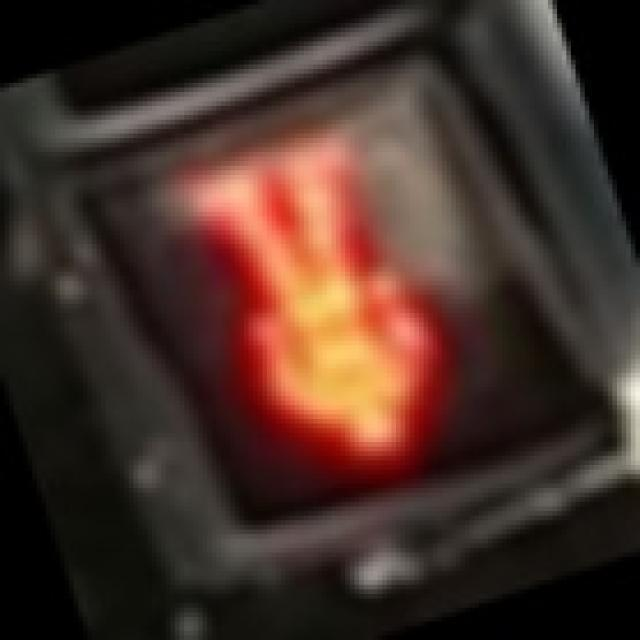red-crossing: (79, 59, 544, 576)
